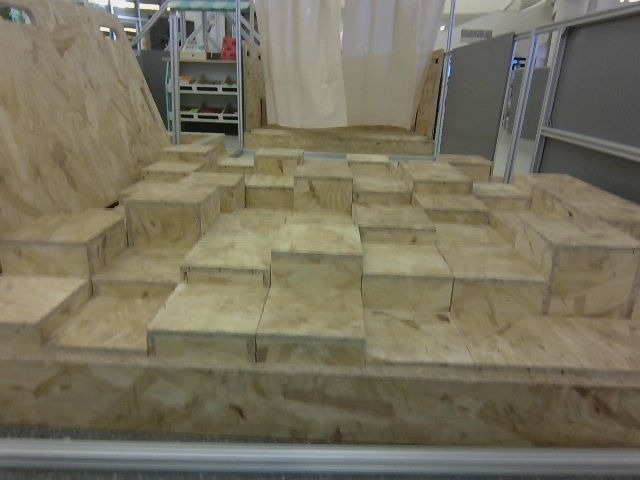curtain: (256, 0, 429, 130)
